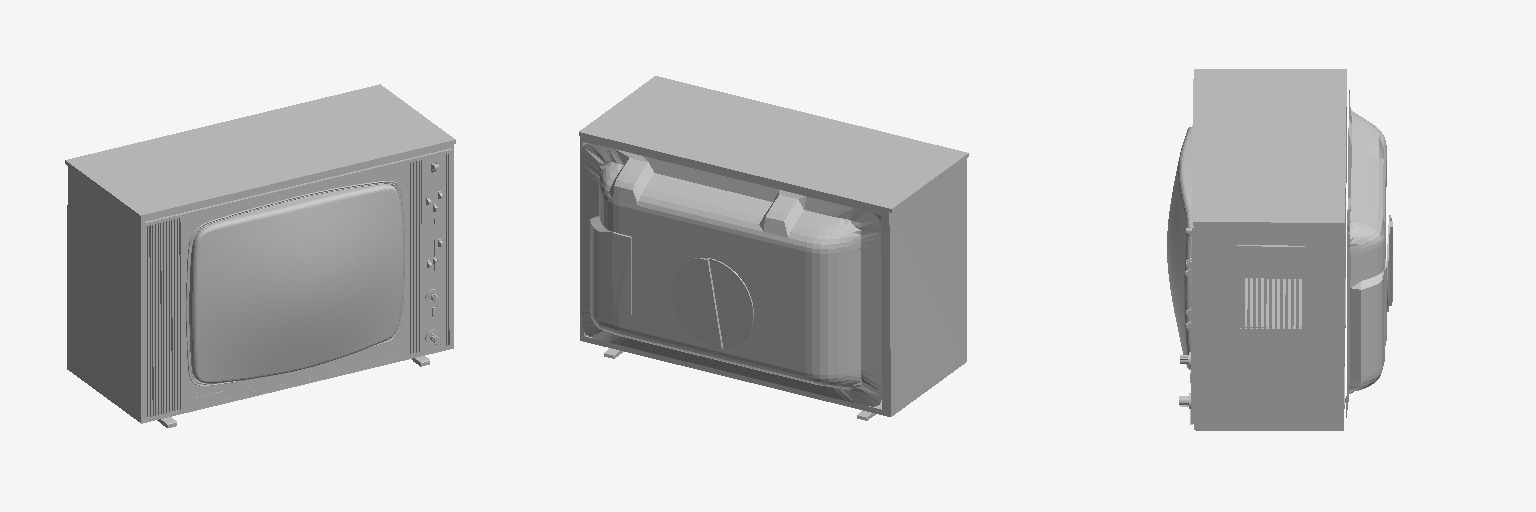
File: Old Tv Set nr1.obj
The picture shows the model from 3 angles: view 1: azimuth 30°, elevation 25°; view 2: azimuth 150°, elevation 25°; view 3: azimuth 270°, elevation 25°; orthographic projection.
Parts seen in each view (by area): view 1: ob.casing_ms.casing, ob.kinescope_ms.kinescope, ob.wood_mask_left_ms.wood_mask_left, ob.Metal_mask_ms_.metal_mask, ob._wood_mask_r_ob_wood_mask_r, ob.rubber_seal_ms.rubber_seal, ob.alu_slat_top_ms.alu_slat_top, ob.alu_slat_btt_ms.ale_slt_btt; view 2: ob.back_cover_ms.back_cover, ob.casing_ms.casing; view 3: ob.casing_ms.casing, ob.back_cover_ms.back_cover, ob.kinescope_ms.kinescope, ob.speaker_cover_Plane.007.
Part boxes in pixels (x1,y1,x2,y2): ob.casing_ms.casing: (65,84,455,423); ob.kinescope_ms.kinescope: (189,184,403,383); ob.wood_mask_left_ms.wood_mask_left: (147,218,182,416); ob.Metal_mask_ms_.metal_mask: (421,154,445,350); ob._wood_mask_r_ob_wood_mask_r: (410,153,450,353); ob.rubber_seal_ms.rubber_seal: (186,181,404,385); ob.alu_slat_top_ms.alu_slat_top: (145,148,451,225); ob.alu_slat_btt_ms.ale_slt_btt: (145,344,451,420); ob.back_cover_ms.back_cover: (581,144,881,406); ob.casing_ms.casing: (579,76,968,416); ob.casing_ms.casing: (1193,69,1346,430); ob.back_cover_ms.back_cover: (1345,90,1392,417); ob.kinescope_ms.kinescope: (1167,127,1191,369); ob.speaker_cover_Plane.007: (1237,245,1304,332).
Size of the model in its own units: 1.03 by 0.6843 by 0.6358.